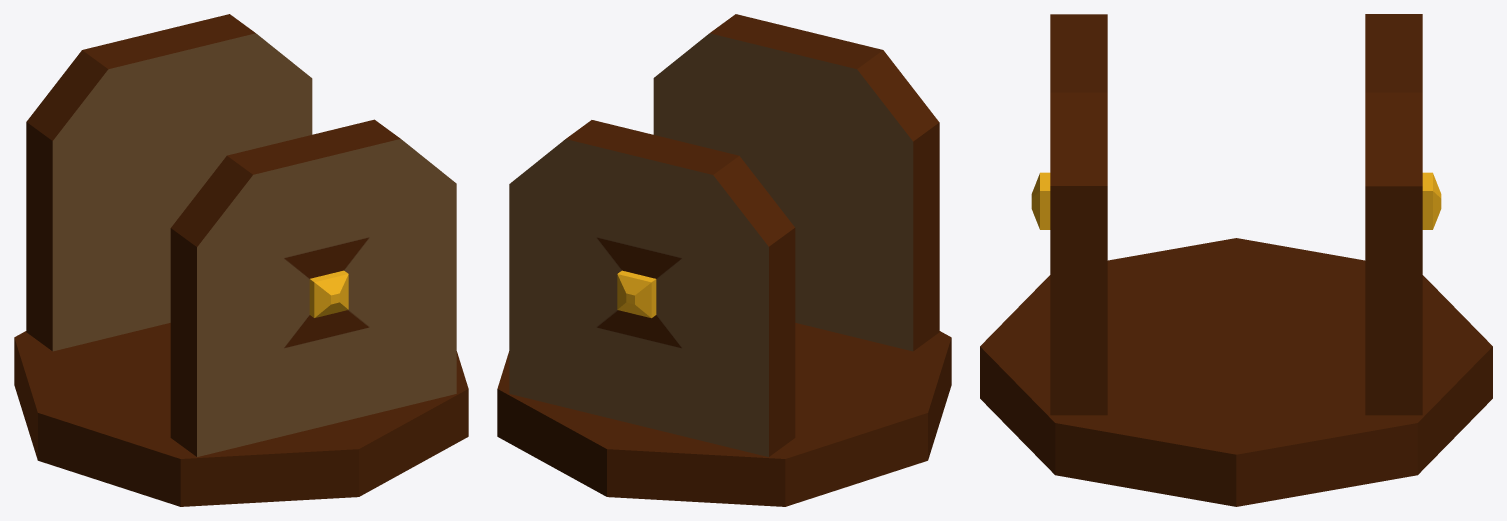
The model's file is Cannon Base.fbx.
The picture shows the model from 3 angles, left to right: view 1: azimuth 30°, elevation 25°; view 2: azimuth 150°, elevation 25°; view 3: azimuth 270°, elevation 25°; orthographic projection. The views are drawn at different scales.
Parts seen in each view (by area): view 1: Cube; view 2: Cube; view 3: Cube.
Boxes of the visible parts, x1=… form: Cube: x1=14, y1=14, x2=468, y2=506; Cube: x1=497, y1=14, x2=951, y2=506; Cube: x1=980, y1=14, x2=1492, y2=506.
Bounding box in the file's own units: 405 × 301 × 405.
